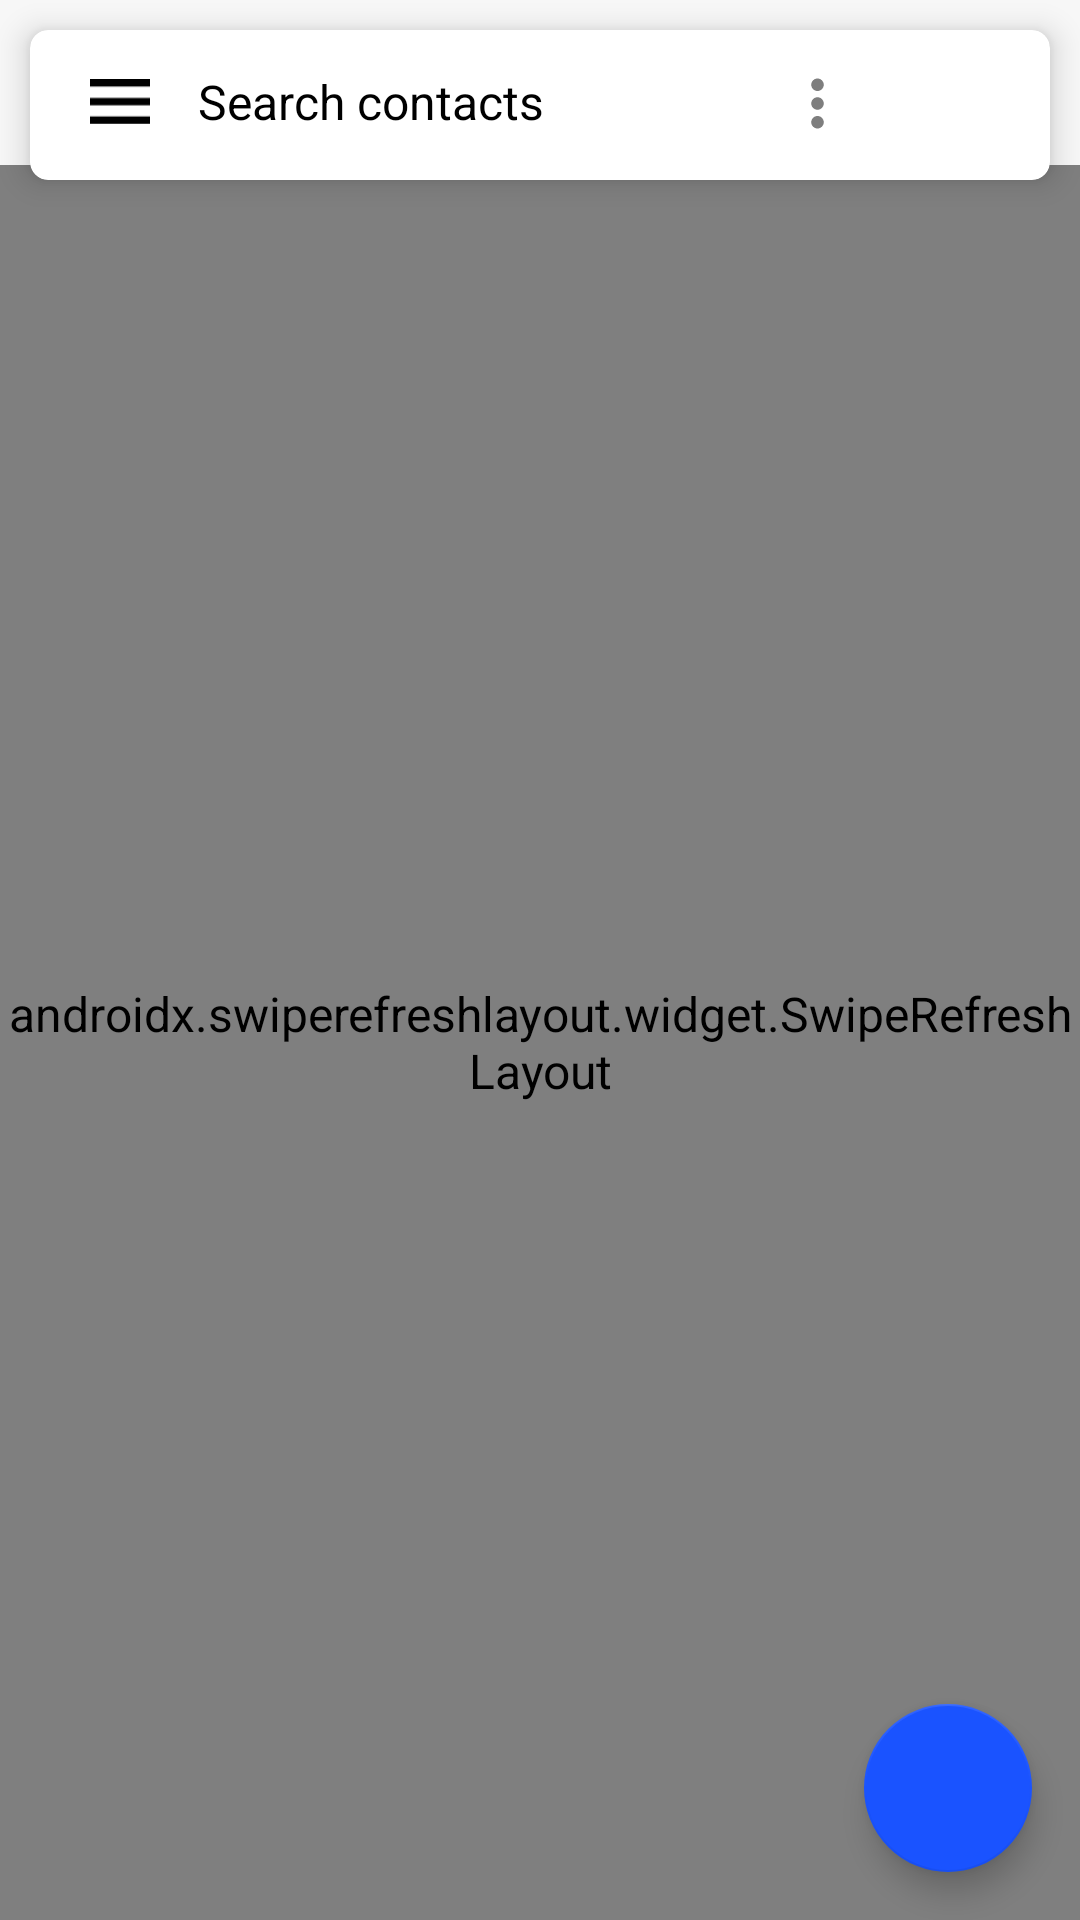

Where icons sit on this 1080*1920 app screen, as Rect(x1, y1, x2, y2):
menubar: Rect(90, 79, 150, 124)
more vert: Rect(811, 78, 824, 129)
